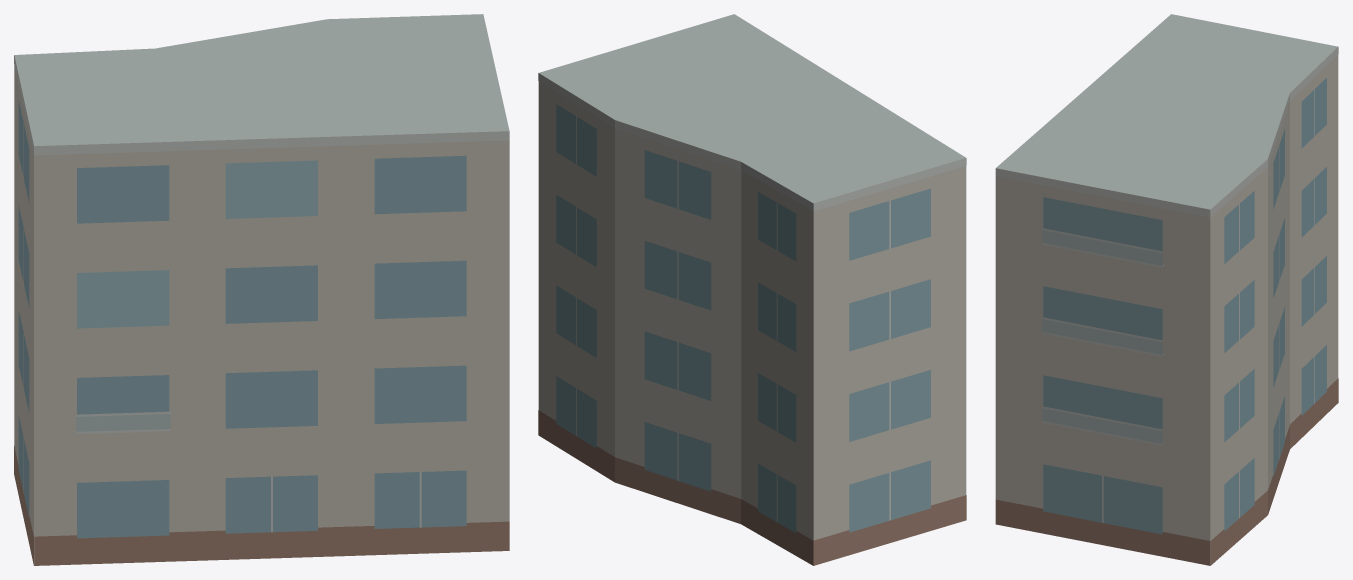
The model's file is survey-upis-32780982.glb.
The picture shows the model from 3 angles, left to right: view 1: azimuth 30°, elevation 25°; view 2: azimuth 150°, elevation 25°; view 3: azimuth 270°, elevation 25°; orthographic projection. The views are drawn at different scales.
Visible parts, largest first — view 1: survey-upis-32780982.tmp; view 2: survey-upis-32780982.tmp; view 3: survey-upis-32780982.tmp.
Boxes of the visible parts, x1,y1,x2,y2 form: survey-upis-32780982.tmp: (14, 14, 509, 565); survey-upis-32780982.tmp: (538, 14, 966, 565); survey-upis-32780982.tmp: (995, 14, 1338, 565).
Bounding box in the file's own units: 13.03 × 11.05 × 9.64.
